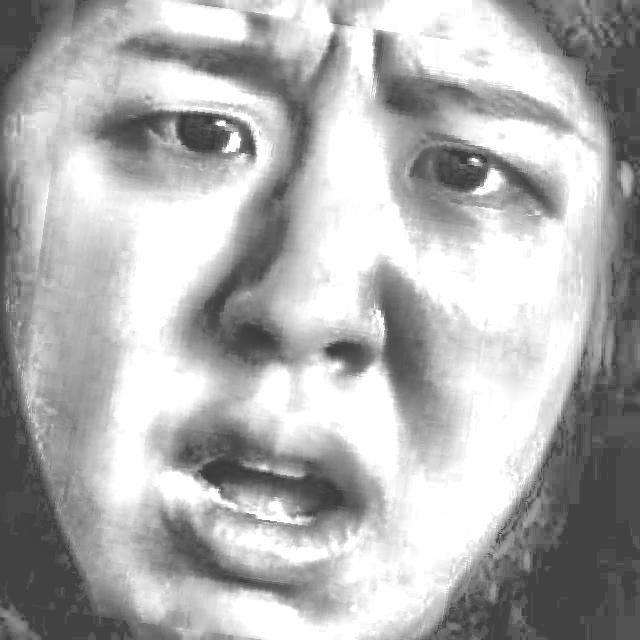angry: (10, 3, 567, 640)
